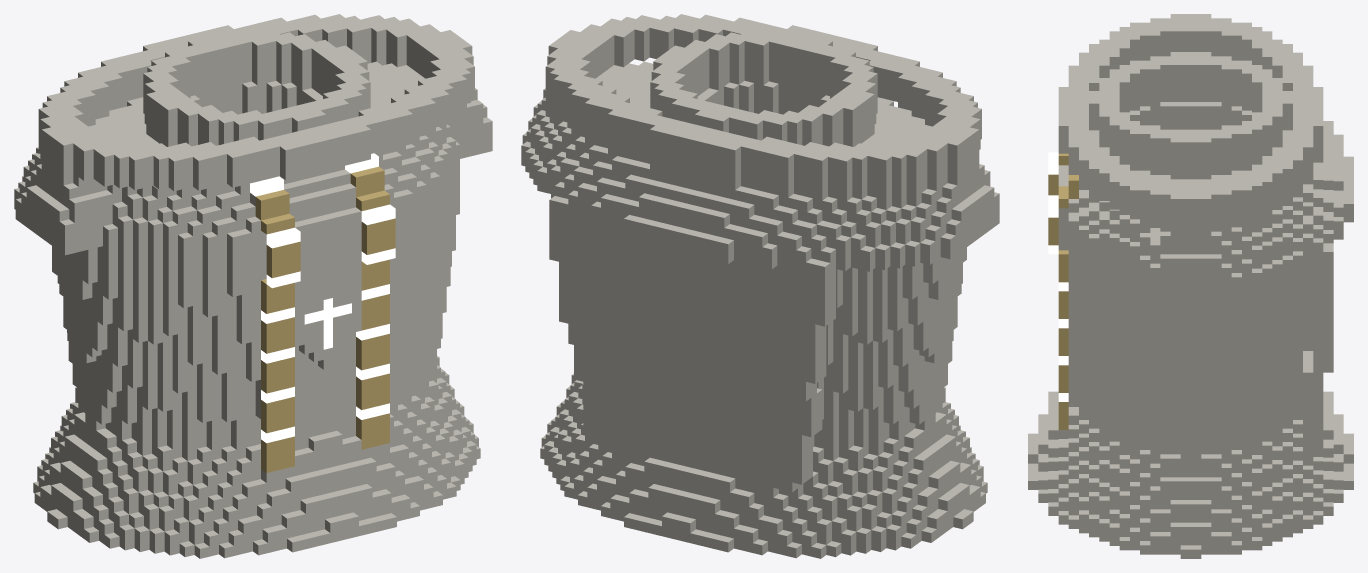
Rendered from cloth_legendary_chest.glb.
3 views of the same model, side by side, from view 1: azimuth 30°, elevation 25°; view 2: azimuth 150°, elevation 25°; view 3: azimuth 270°, elevation 25° (orthographic). The views are drawn at different scales.
Parts seen in each view (by area): view 1: cloth_legendary_chest; view 2: cloth_legendary_chest; view 3: cloth_legendary_chest.
Part boxes in pixels (left/top/right/bottom): cloth_legendary_chest: left=14, top=14, right=492, bottom=558; cloth_legendary_chest: left=521, top=14, right=999, bottom=558; cloth_legendary_chest: left=1028, top=14, right=1353, bottom=558.
Size of the model in its own units: 0.54 by 0.48 by 0.384.
